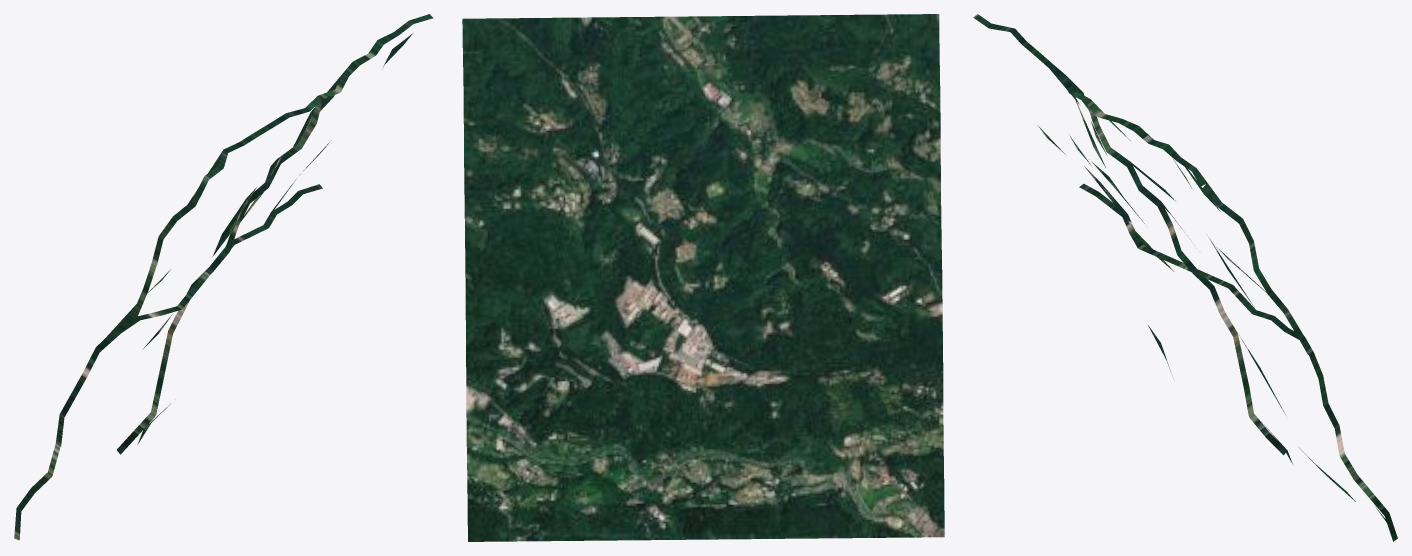
The picture shows the model from 3 angles, left to right: view 1: azimuth 30°, elevation 25°; view 2: azimuth 150°, elevation 25°; view 3: azimuth 270°, elevation 25°; orthographic projection. The views are drawn at different scales.
Bounding box in the file's own units: 2481 × 2231 × 2075.
1 material, 1 textured.
